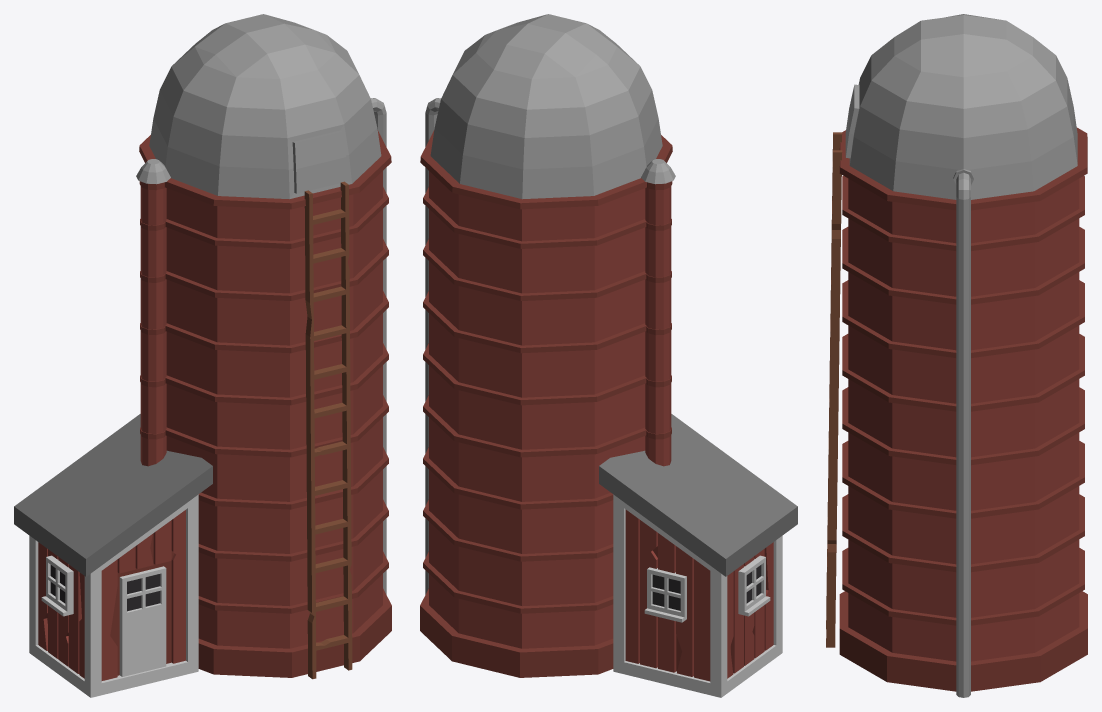
Rendered from Silo_House.glb.
3 views of the same model, side by side, from view 1: azimuth 30°, elevation 25°; view 2: azimuth 150°, elevation 25°; view 3: azimuth 270°, elevation 25° (orthographic). The views are drawn at different scales.
Visible parts, largest first — view 1: LightRed, Grey, DarkRed, DarkGrey, White, Brown, Black; view 2: LightRed, Grey, DarkRed, DarkGrey, White, Black; view 3: LightRed, Grey, DarkRed, Brown.
Boxes of the visible parts, bbox=[...] form: LightRed: bbox=[38, 171, 382, 680]; Grey: bbox=[136, 14, 386, 594]; DarkRed: bbox=[47, 130, 391, 677]; DarkGrey: bbox=[14, 414, 212, 576]; White: bbox=[29, 494, 198, 697]; Brown: bbox=[304, 181, 352, 679]; Black: bbox=[50, 565, 160, 611]; LightRed: bbox=[429, 171, 773, 681]; Grey: bbox=[425, 14, 675, 594]; DarkRed: bbox=[420, 130, 730, 677]; DarkGrey: bbox=[599, 414, 797, 576]; White: bbox=[613, 494, 782, 697]; Black: bbox=[652, 565, 761, 610]; LightRed: bbox=[848, 178, 1079, 661]; Grey: bbox=[845, 14, 1077, 697]; DarkRed: bbox=[839, 127, 1087, 691]; Brown: bbox=[826, 132, 842, 647].
Size of the model in its own units: 5.34 by 9.07 by 3.51.
